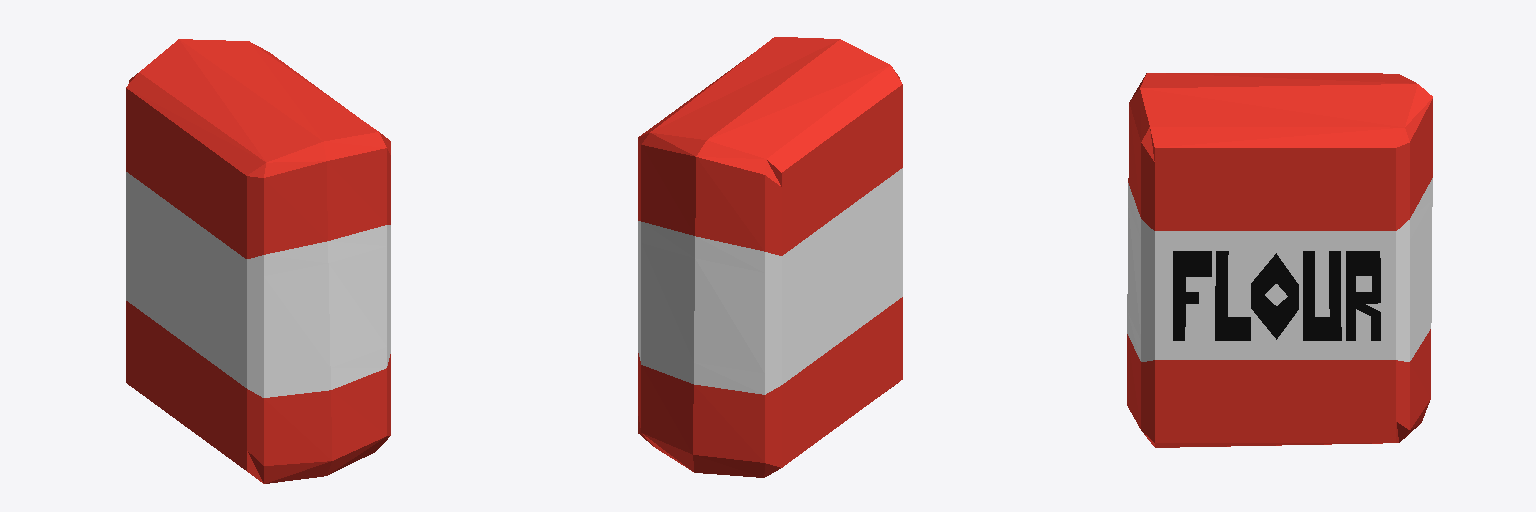
3 renders of one model, left to right at view 1: azimuth 30°, elevation 25°; view 2: azimuth 150°, elevation 25°; view 3: azimuth 270°, elevation 25°, orthographic.
Parts seen in each view (by area): view 1: group[number redacted]; view 2: group[number redacted]; view 3: group[number redacted].
Part boxes in pixels (left/top/right/bottom): group[number redacted]: left=126, top=39, right=390, bottom=483; group[number redacted]: left=638, top=37, right=902, bottom=477; group[number redacted]: left=1127, top=73, right=1432, bottom=447.
Size of the model in its own units: 0.56 by 1.25 by 1.03.